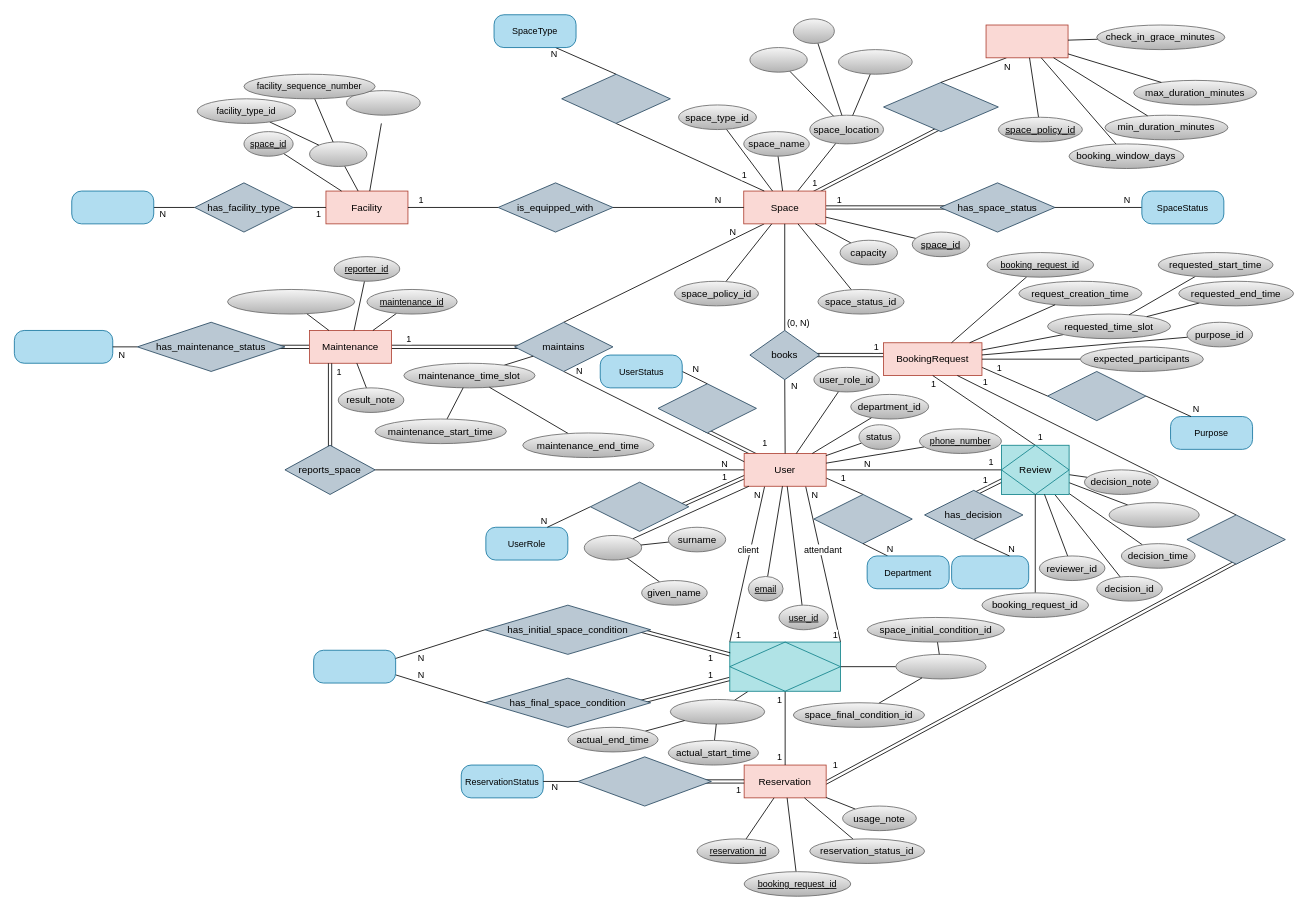
This 1308x910 diagram has some shape labels left out. The shapes that lost their labels are listed below. From the top down, each one's centre as x and y in pixels, then its label:
At (813,30): "floor".
At (1026,41): "SpacePolicy".
At (778,59): "building".
At (875,61): "room_number".
At (383,102): "facility_name".
At (615,98): "has_space_type".
At (940,107): "follows_policy".
At (338,153): "facility_id".
At (112,207): "FacilityType".
At (291,301): "maintenance_status_id".
At (63,346): "MaintenanceStatus".
At (706,408): "has_user_status".
At (1096,396): "has_purpose".
At (639,506): "has_user_role".
At (862,519): "has_department".
At (1153,514): "rejection_reason".
At (612,547): "full_name".
At (1235,539): "from_request".
At (990,572): "Decision".
At (354,666): "SpaceCondition".
At (784,666): "ReservationCheckin".
At (940,666): "space_condition".
At (717,711): "actual_time_slot".
At (644,781): "has_reservation_status".
